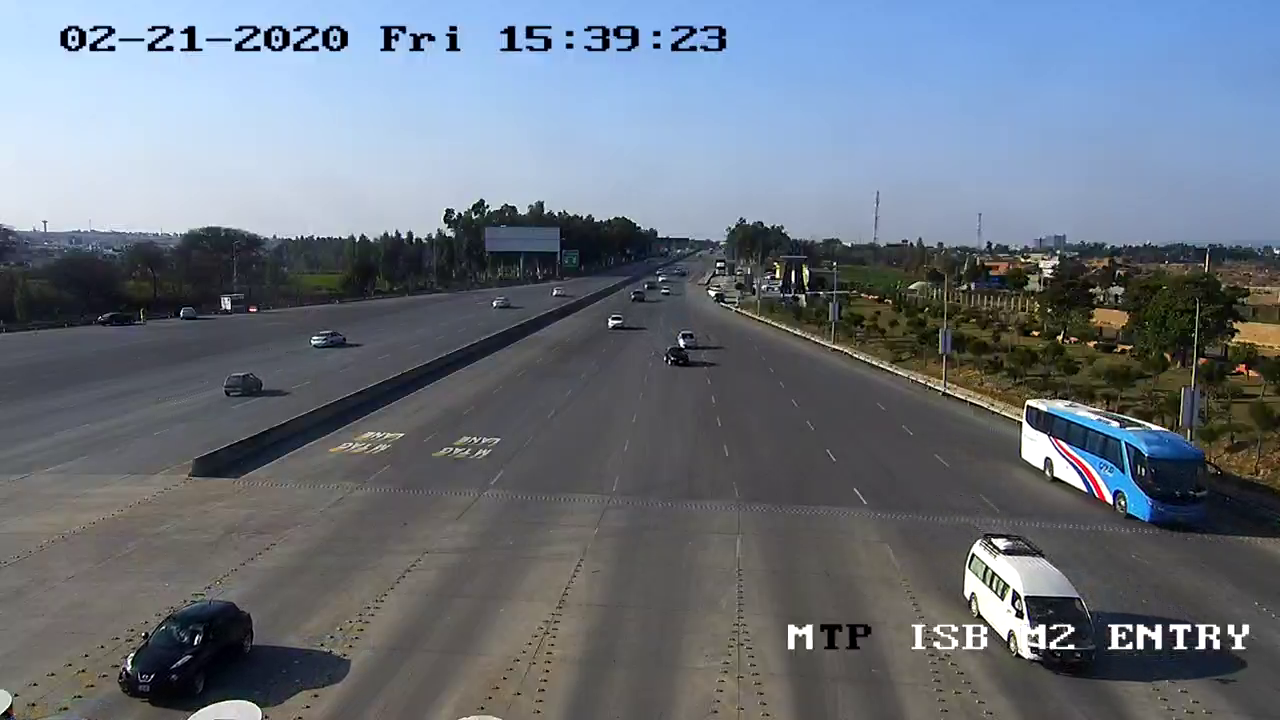f1: (102, 591, 269, 706)
f4: (1016, 390, 1225, 540)
